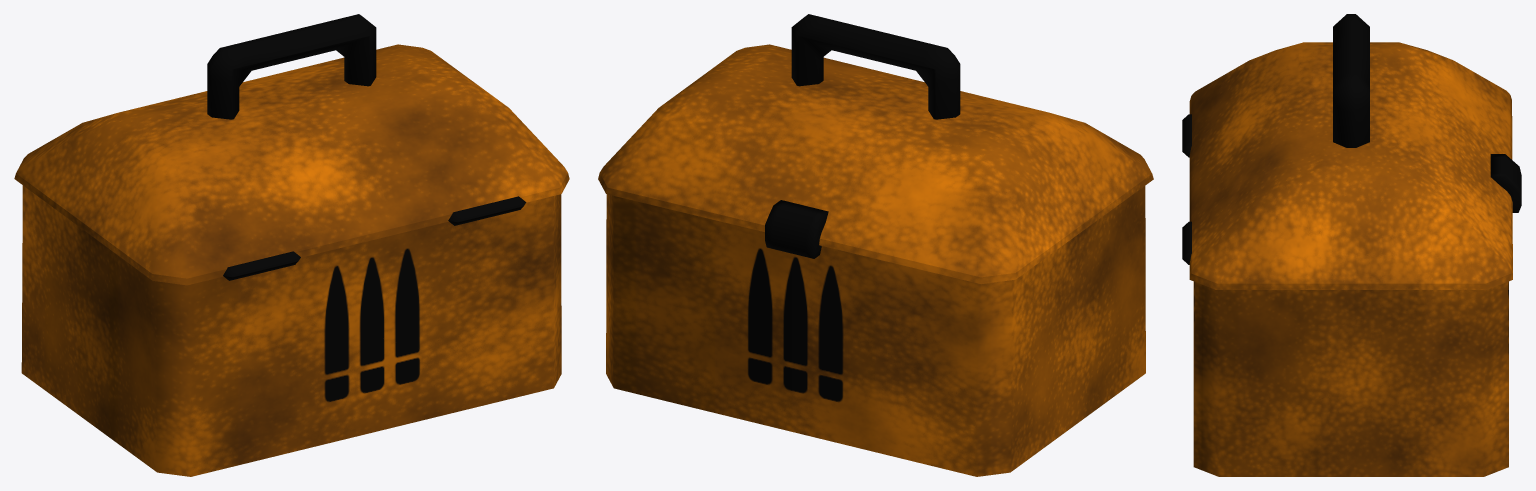
Rendered from Ammobox.fbx.
3 views of the same model, side by side, from view 1: azimuth 30°, elevation 25°; view 2: azimuth 150°, elevation 25°; view 3: azimuth 270°, elevation 25° (orthographic). The views are drawn at different scales.
Parts seen in each view (by area): view 1: Cube, Cube.001, Cube.002, Cube.003; view 2: Cube, Cube.001, Cube.004; view 3: Cube, Cube.001, Cube.004, Cube.003, Cube.002.
Part boxes in pixels (x1,y1,x2,y2): Cube: (14, 44, 569, 476); Cube.001: (207, 14, 376, 119); Cube.002: (223, 251, 300, 280); Cube.003: (448, 196, 526, 225); Cube: (598, 44, 1153, 476); Cube.001: (791, 14, 960, 119); Cube.004: (765, 200, 828, 258); Cube: (1189, 42, 1512, 476); Cube.001: (1333, 14, 1369, 147); Cube.004: (1490, 154, 1521, 212); Cube.003: (1182, 221, 1191, 264); Cube.002: (1182, 114, 1191, 157).
Size of the model in its own units: 55 by 42.95 by 39.67.
Materials: 2 (1 with a texture image).
